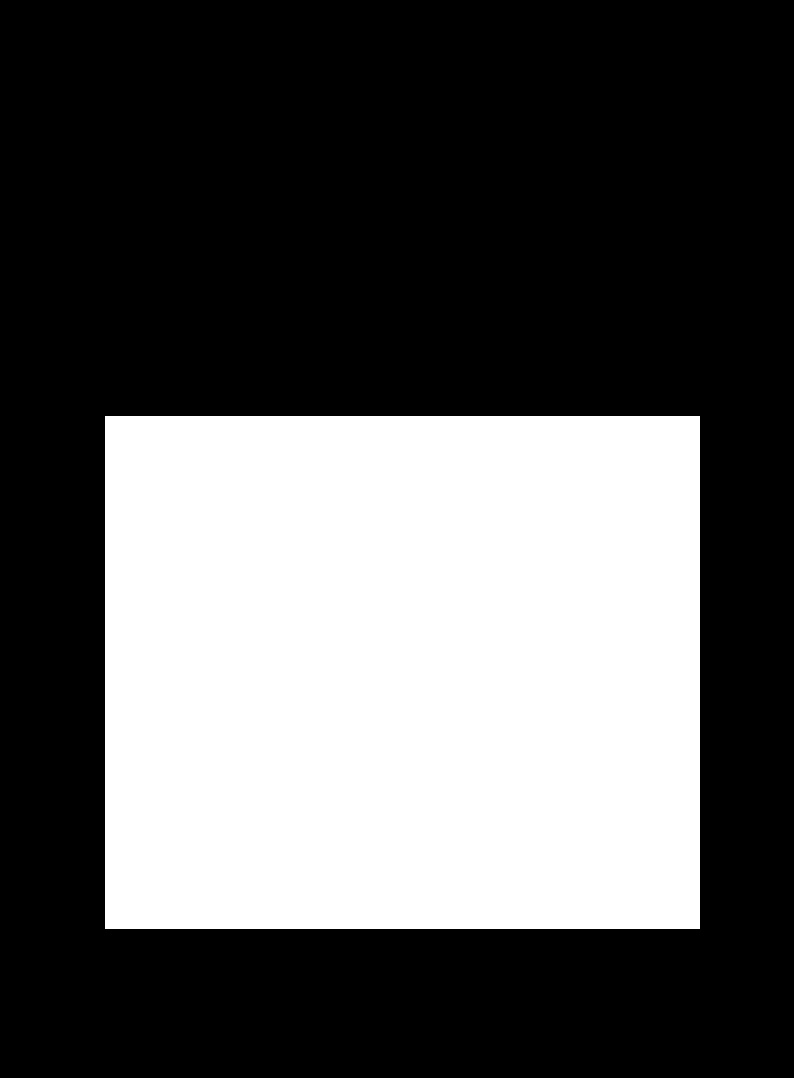table: (105, 416, 699, 928)
